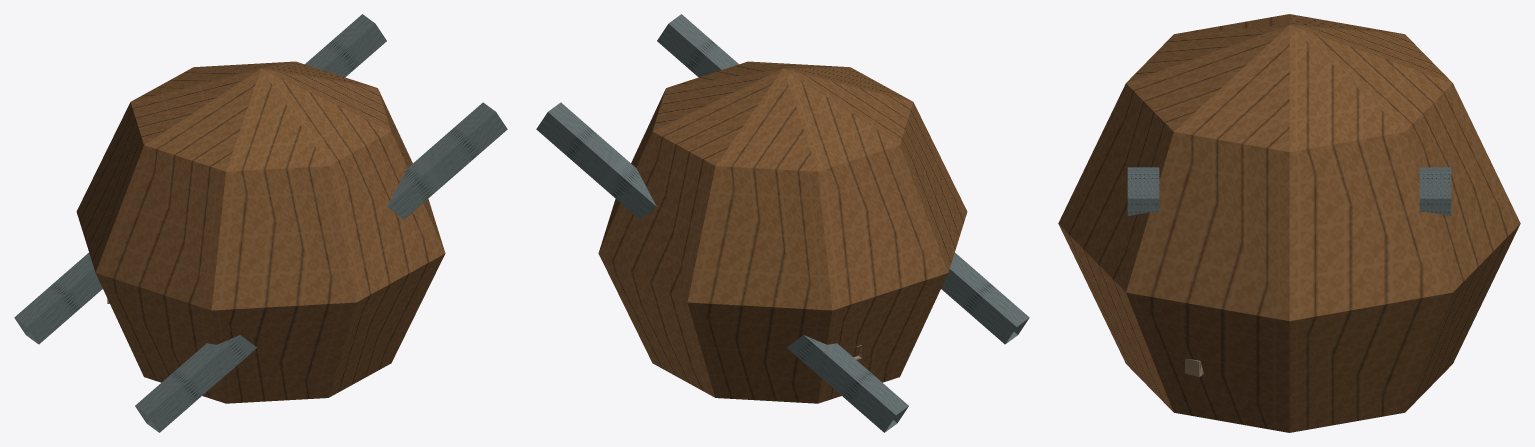
Rendered from military-FLAME_BALL-1-lod1.glb.
3 renders of one model, left to right at view 1: azimuth 30°, elevation 25°; view 2: azimuth 150°, elevation 25°; view 3: azimuth 270°, elevation 25°, orthographic. The views are drawn at different scales.
Bounding box in the file's own units: 0.4134 × 0.36 × 0.38.
Materials: 1 (1 with a texture image).
